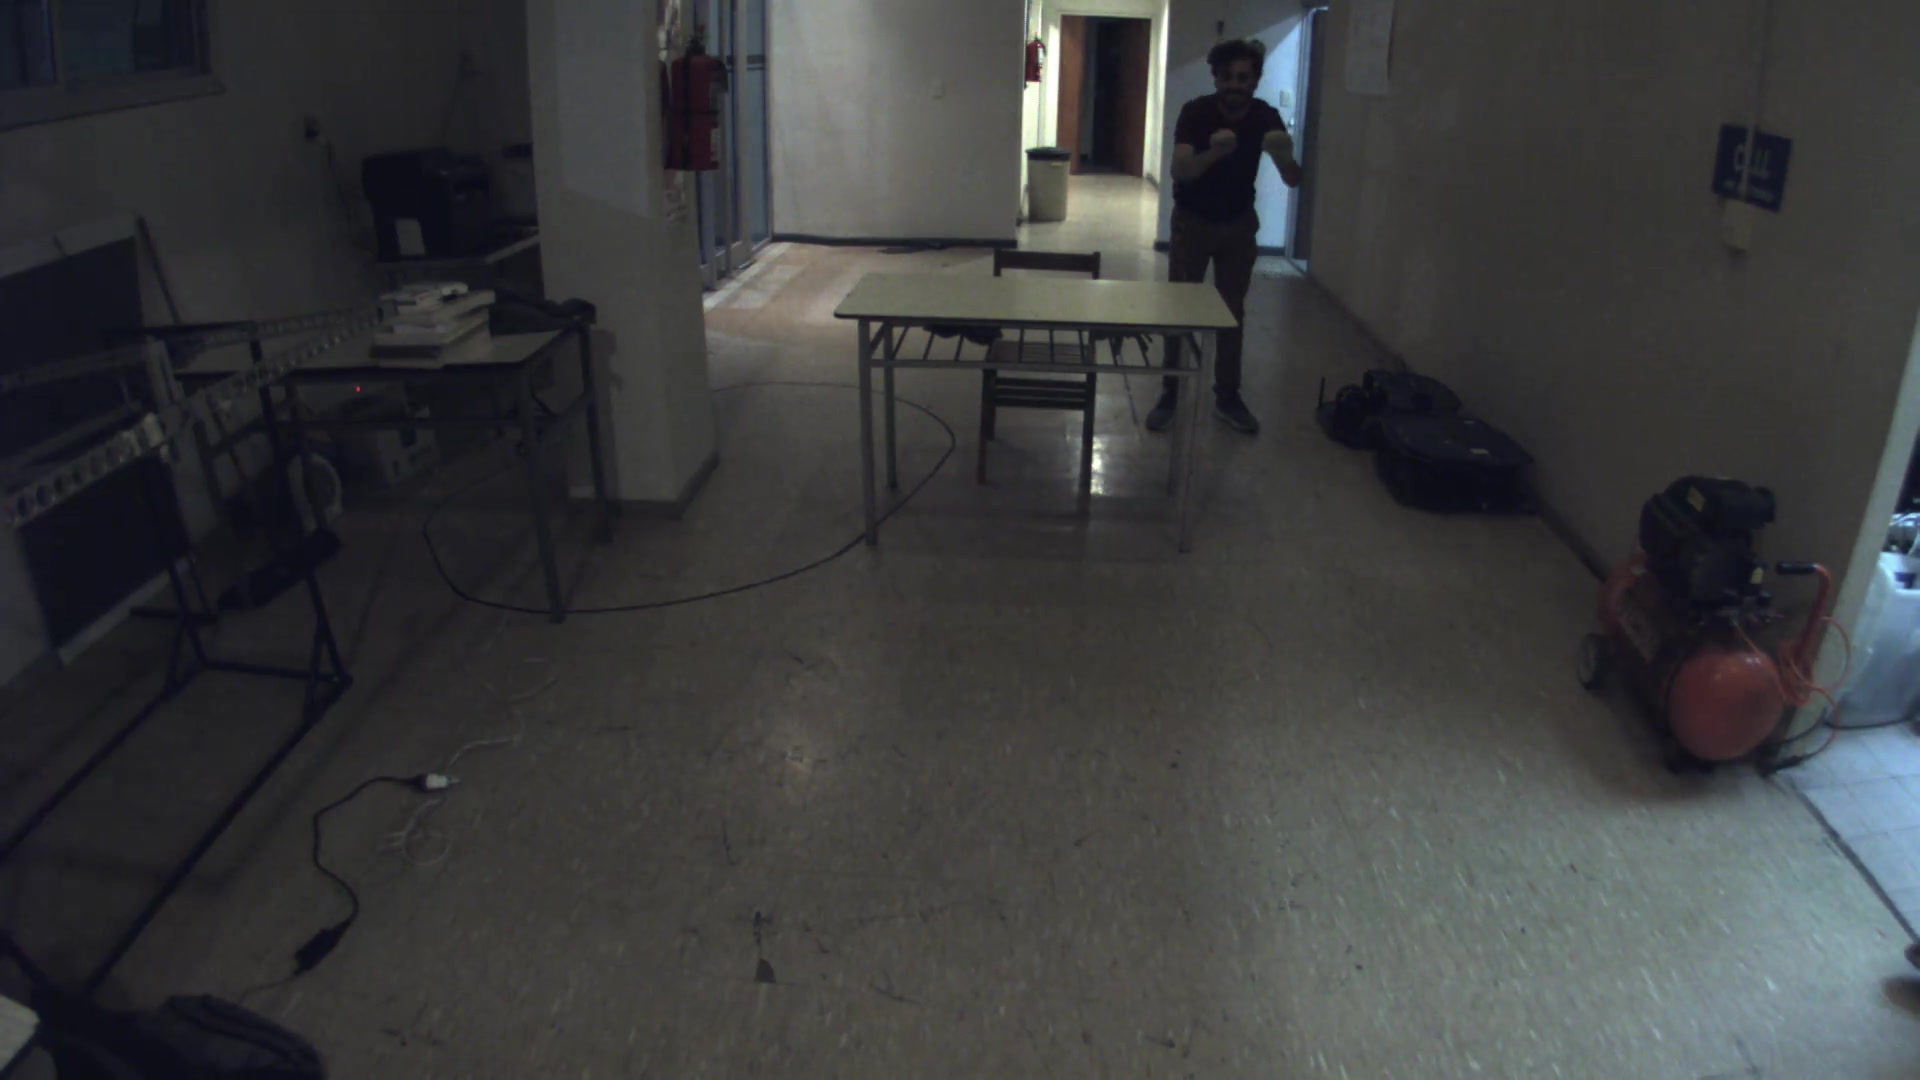hand: (1255, 120, 1302, 165), (1199, 116, 1245, 160)
